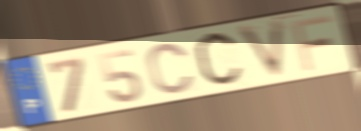5: (95, 47, 144, 104)
7: (46, 54, 88, 115)
C: (192, 28, 246, 92), (145, 41, 196, 96)
F: (289, 13, 335, 73)
V: (233, 16, 288, 84)
